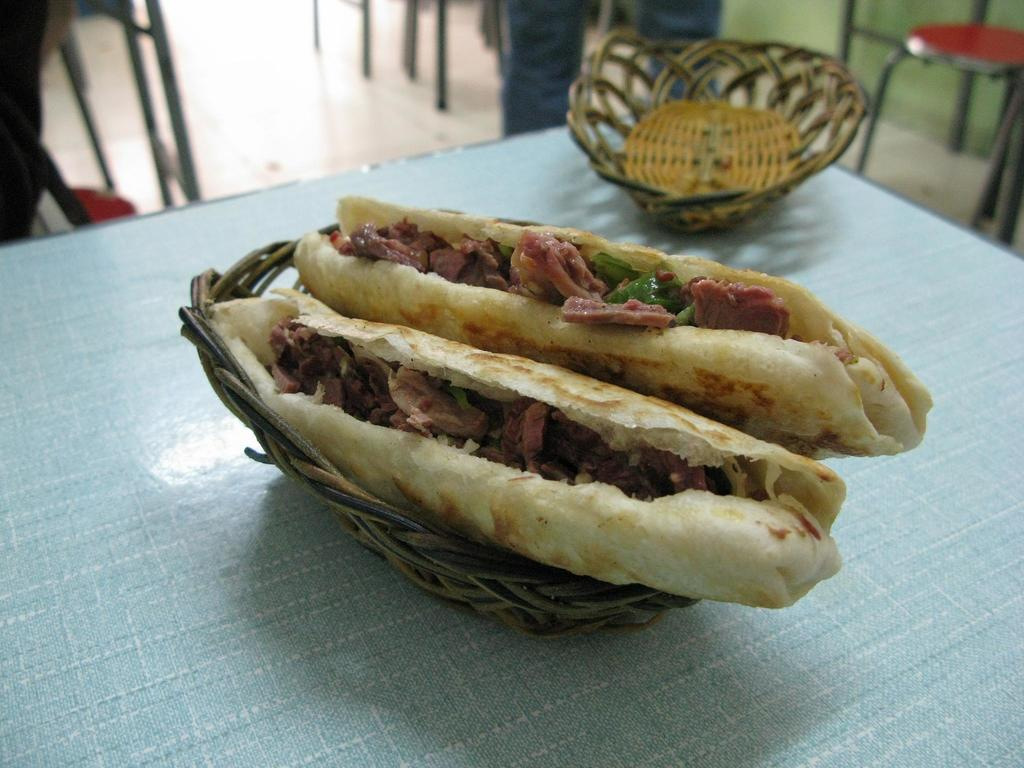sandwich: (211, 284, 853, 610), (291, 187, 943, 460)
